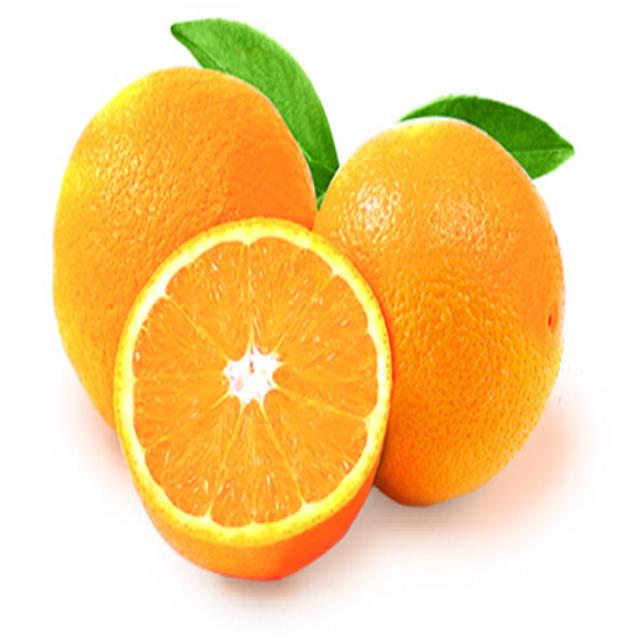orange: (112, 219, 396, 590), (53, 68, 317, 456), (313, 117, 567, 511)
